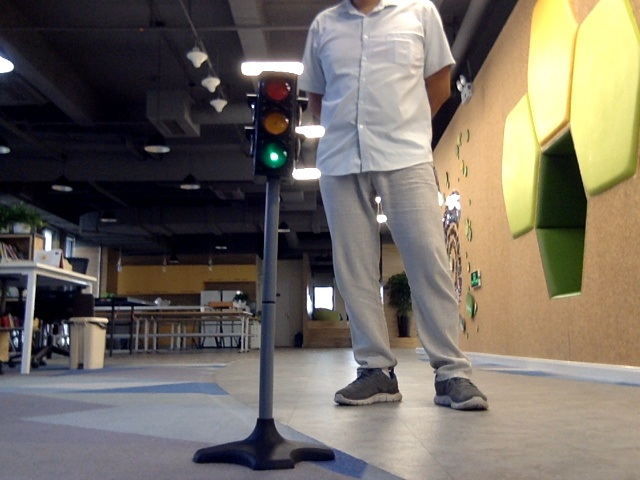green: (257, 76, 285, 169)
